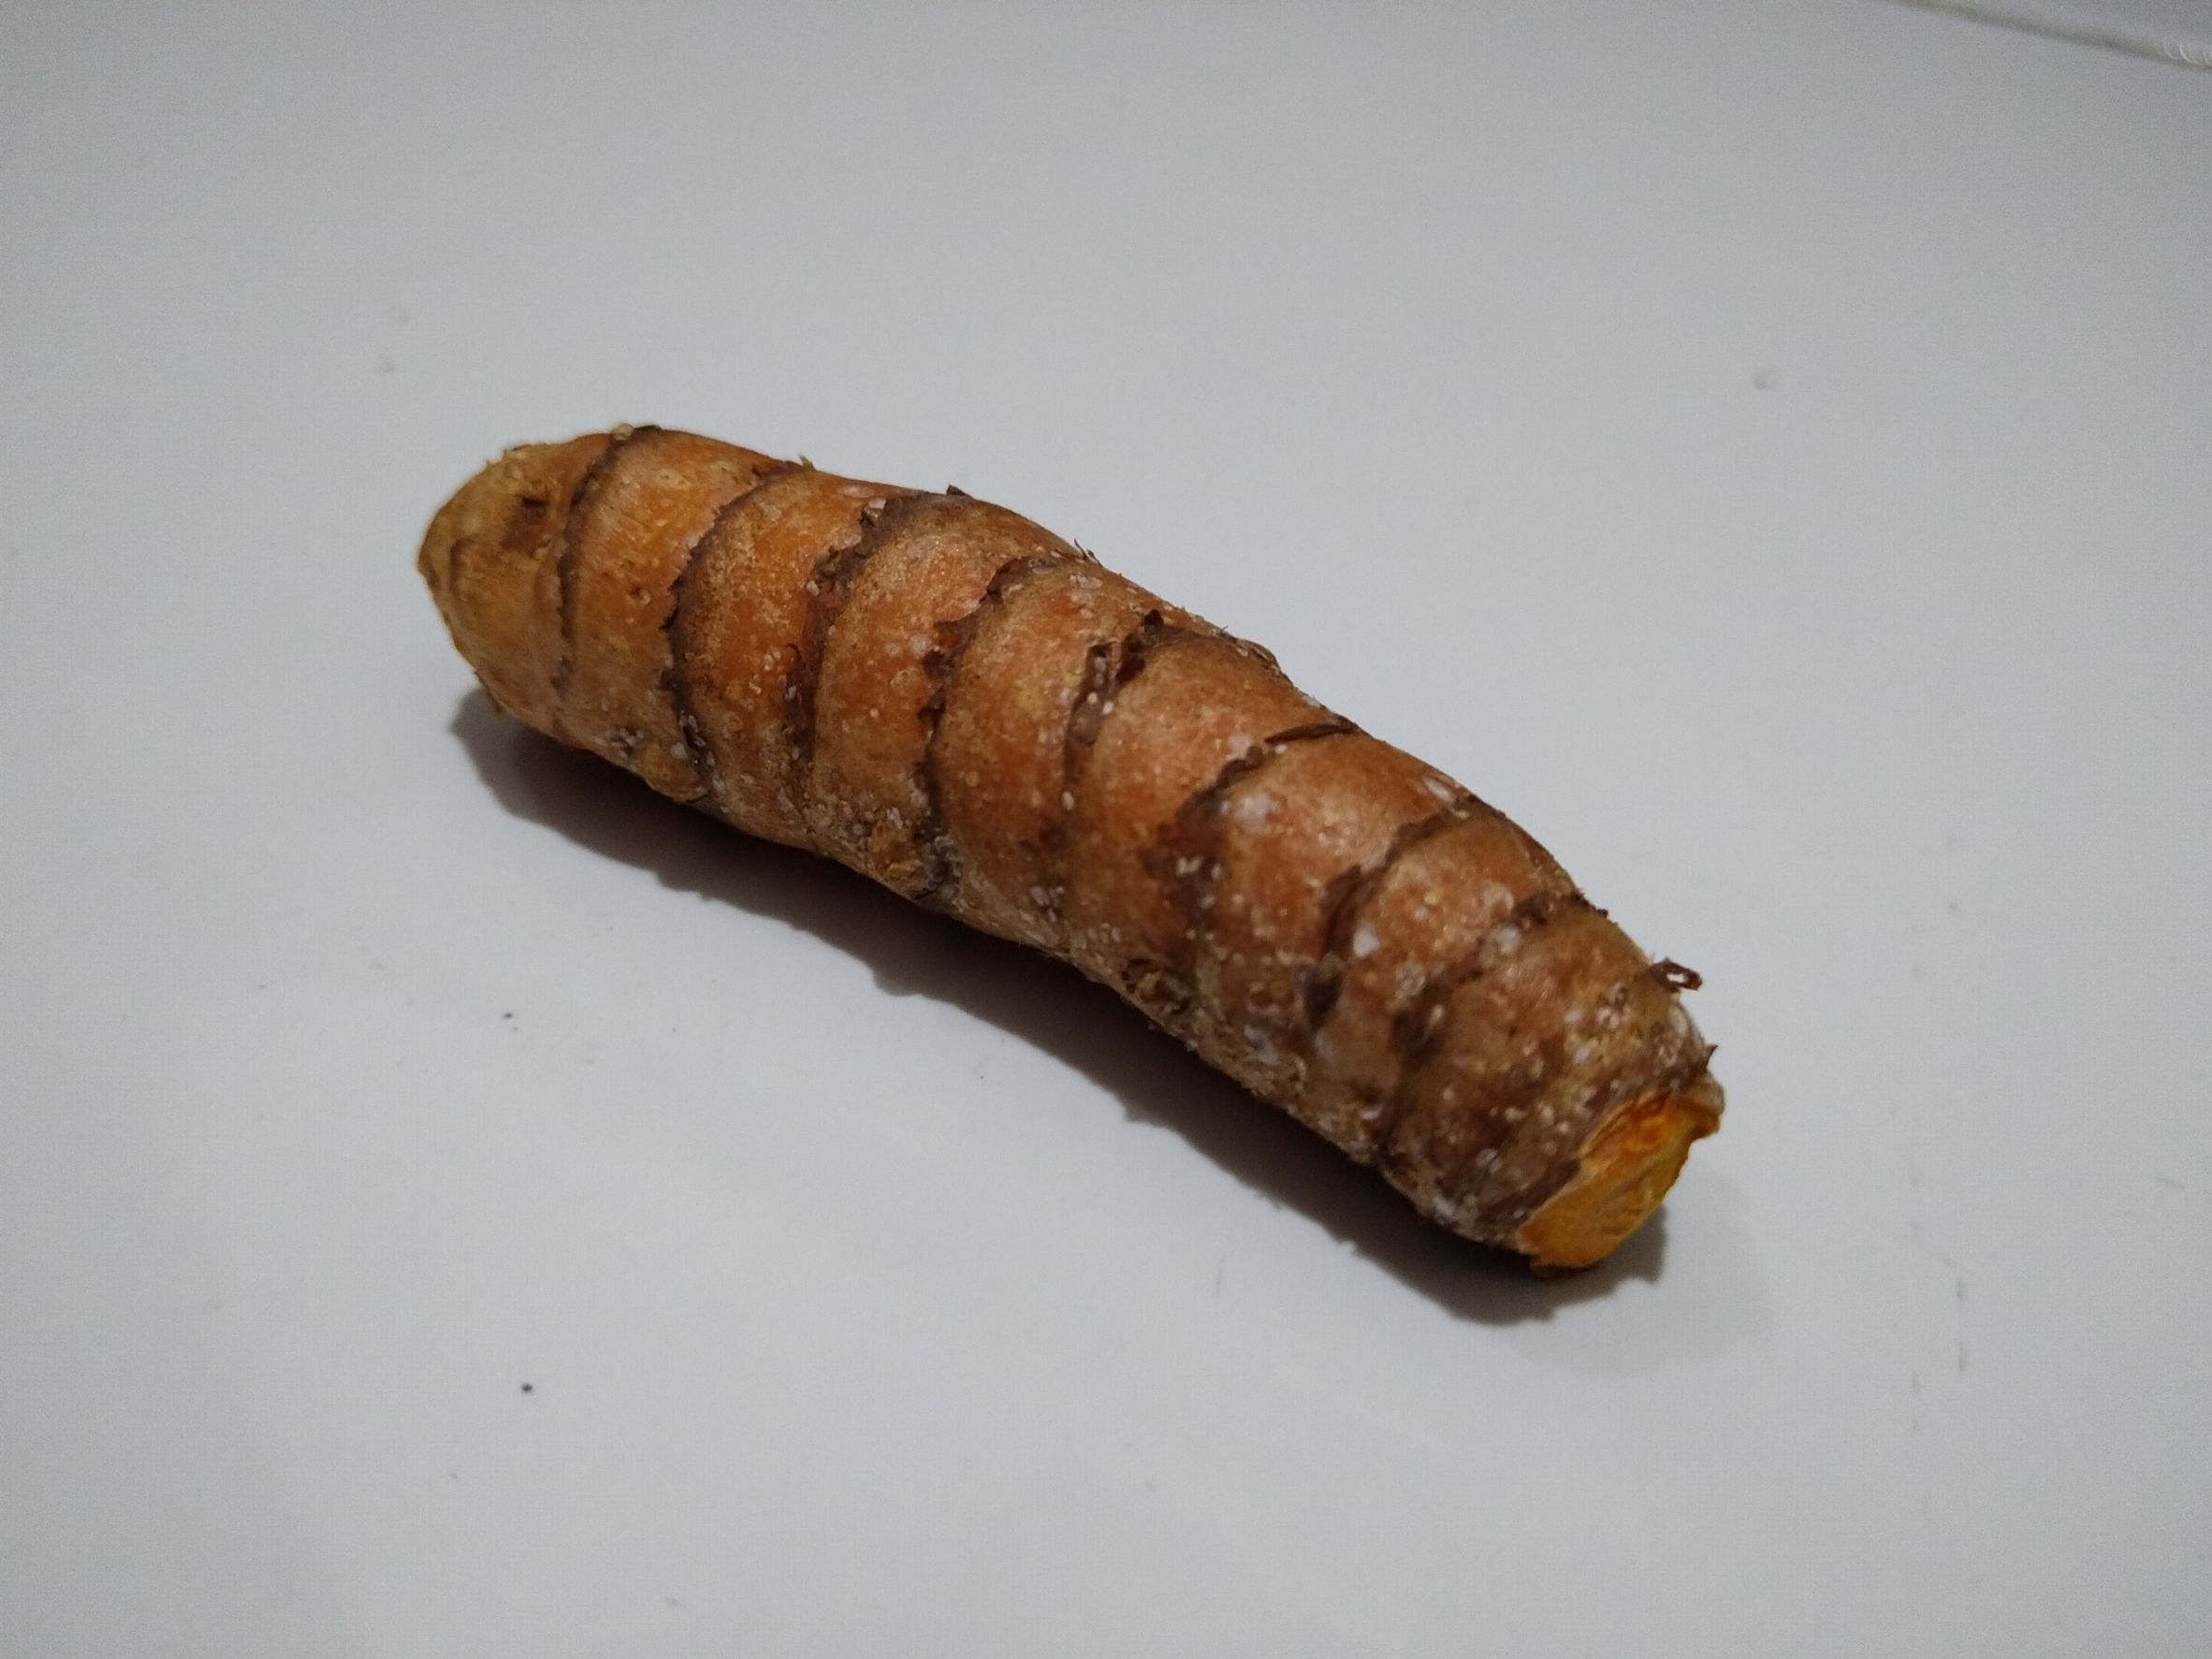Kunyit: (420, 399, 1733, 1324)
